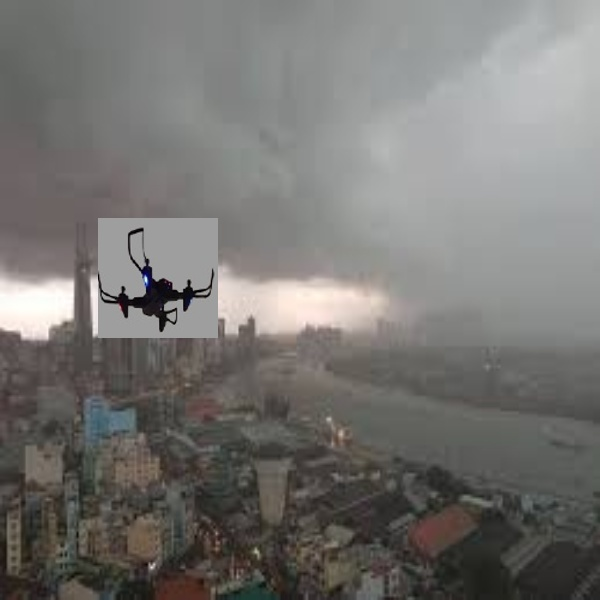drone: (93, 219, 222, 340)
